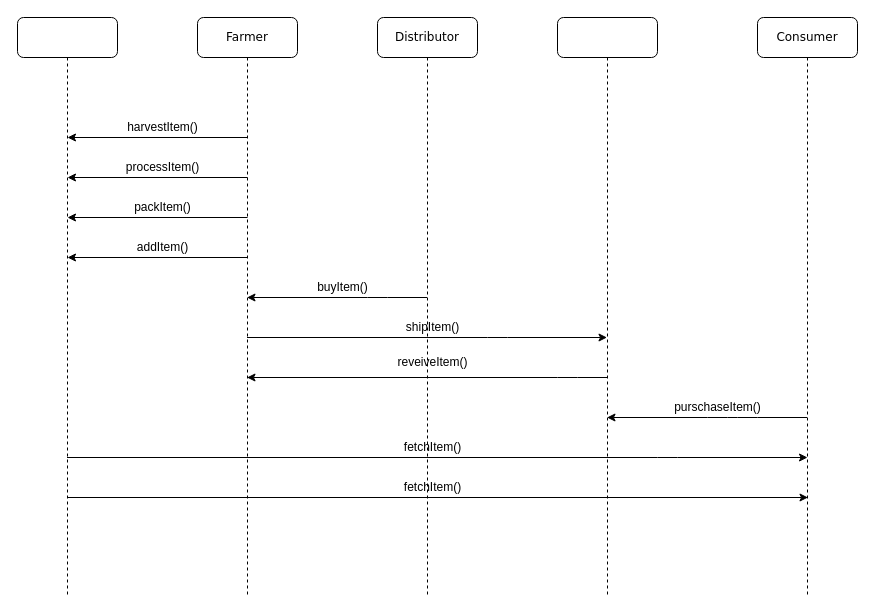
The diagram is 875 pixels wide and 615 high, and some of its shapes have lost their labels. The shapes that lost their labels are listed below. From the top down, each one's box as (x1, y1, x2, y2) in pixels, then its label:
(16, 16, 118, 598): Coffee
(556, 16, 658, 598): Retailer
